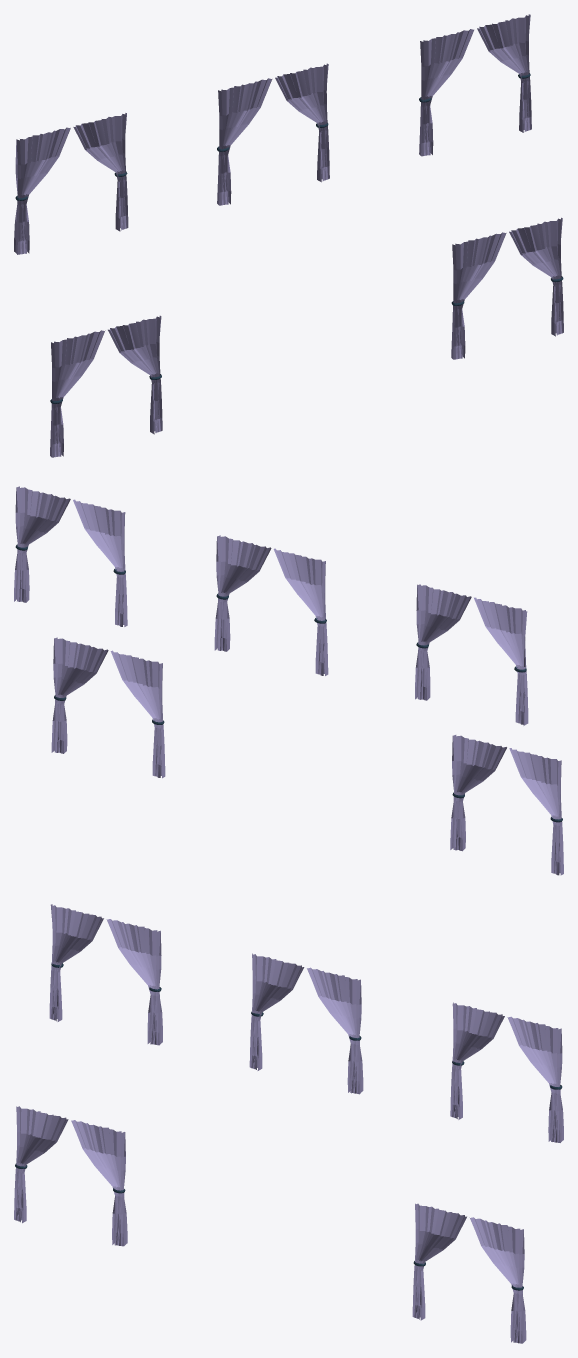
Rendered from Cortinas.obj.
3 renders of one model, top to bottom at view 1: azimuth 30°, elevation 25°; view 2: azimuth 150°, elevation 25°; view 3: azimuth 330°, elevation 25°, orthographic.
Parts seen in each view (by area): view 1: Cortinas:polySurface18; view 2: Cortinas:polySurface18; view 3: Cortinas:polySurface18.
Part boxes in pixels (x1,y1,x2,y2): Cortinas:polySurface18: (14,14,563,457); Cortinas:polySurface18: (14,486,563,875); Cortinas:polySurface18: (14,904,563,1343).
Bounding box in the file's own units: 7.71 × 4.16 × 1.07.
Materials: 3 (3 with a texture image).
